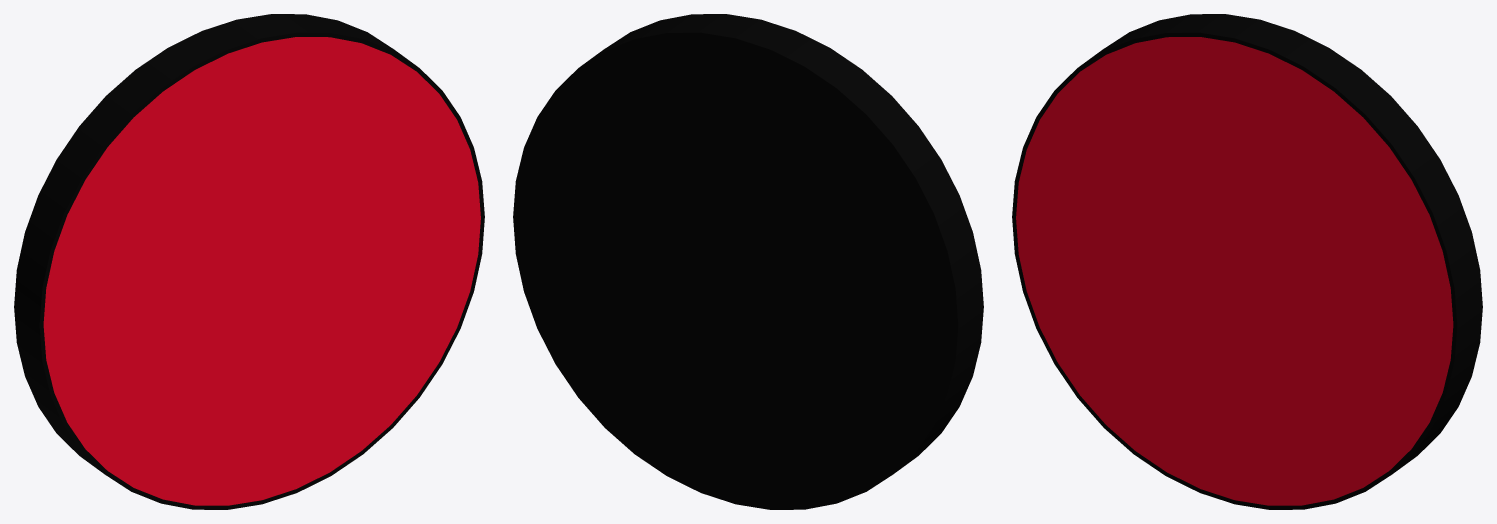
Rendered from SIGN3.fbx.
3 renders of one model, left to right at view 1: azimuth 30°, elevation 25°; view 2: azimuth 150°, elevation 25°; view 3: azimuth 330°, elevation 25°, orthographic.
Visible parts, largest first — view 1: pCylinder21; view 2: pCylinder21; view 3: pCylinder21.
Boxes of the visible parts, x1=… form: pCylinder21: x1=14, y1=14, x2=484, y2=509; pCylinder21: x1=513, y1=14, x2=983, y2=509; pCylinder21: x1=1012, y1=14, x2=1482, y2=509.
Bounding box in the file's own units: 1.84 × 1.84 × 0.1833.
